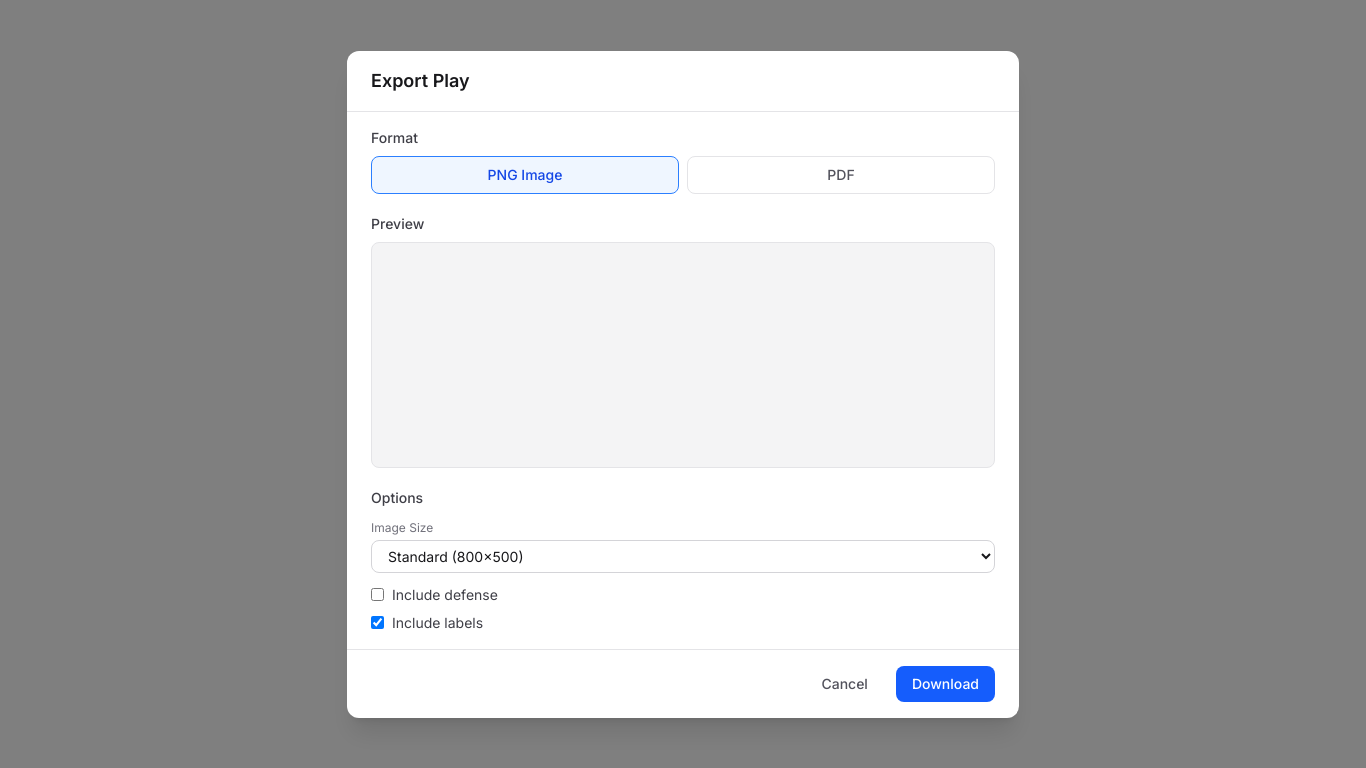
Test: ExportDialog › shows page size selector when PDF format is selected
Note: Switch to PDF
Click the button with test id "format-pdf": (841, 174) [687,156,995,194]
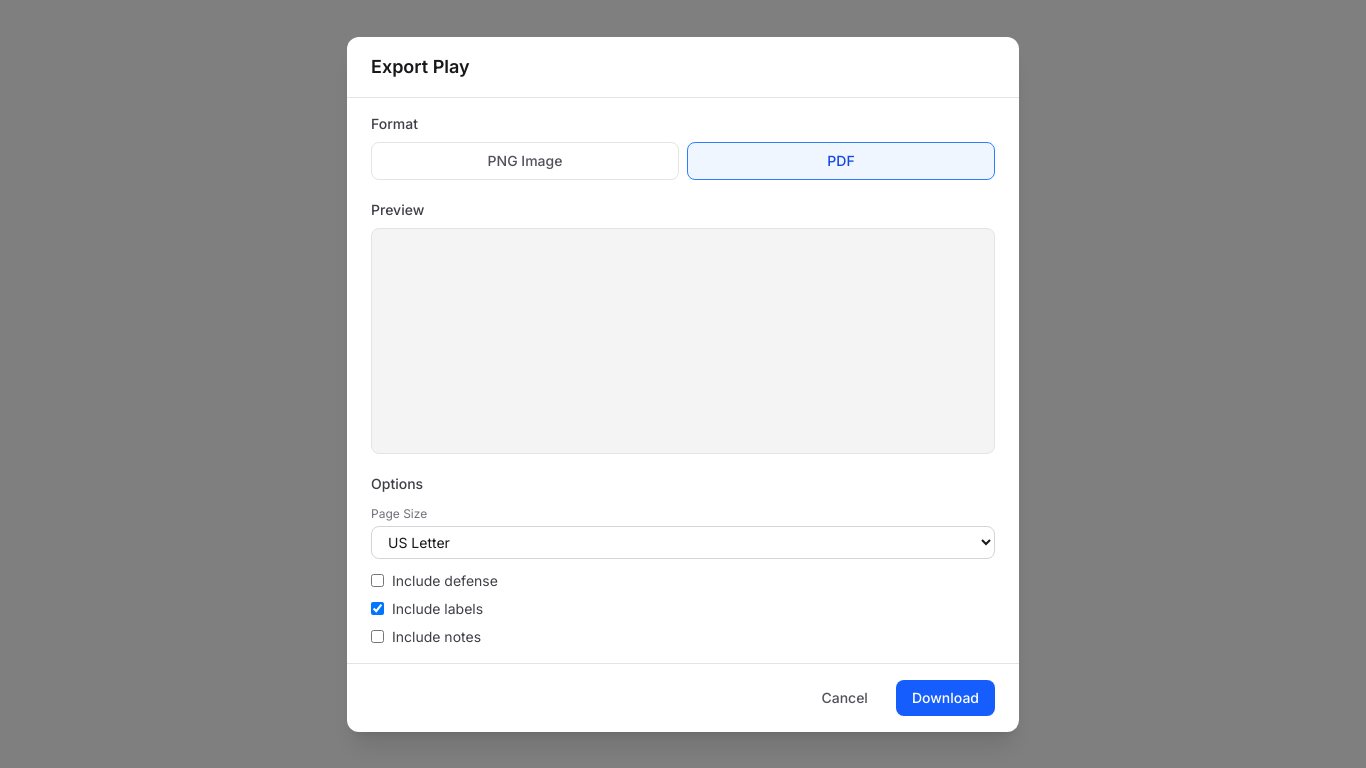
Expected: the dropdown with test id "page-size-select" is shown, [371,526,995,558]
